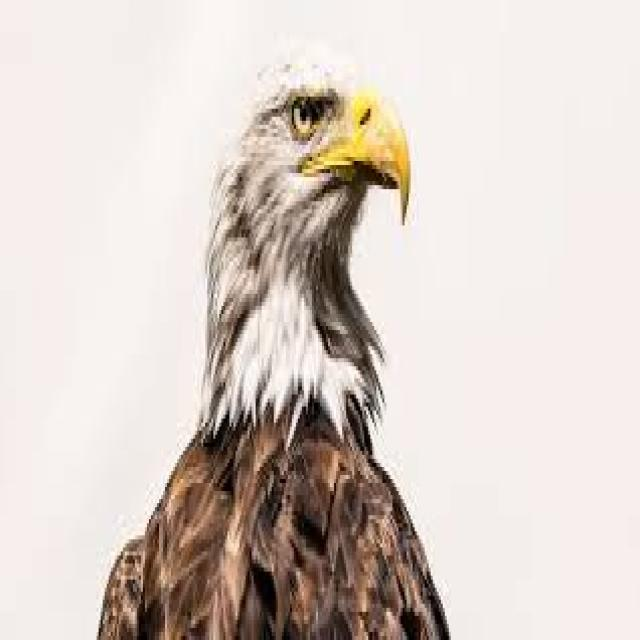Eagle: (137, 46, 422, 640)
